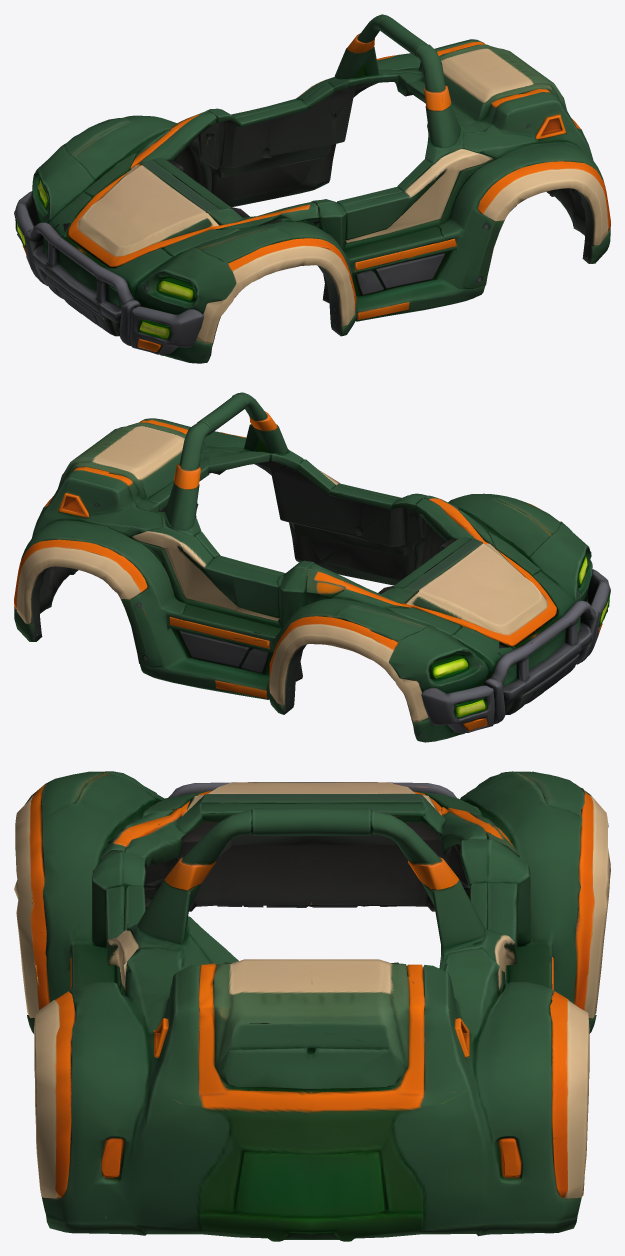
File: vehicle_11.glb
The picture shows the model from 3 angles, top to bottom: view 1: azimuth 30°, elevation 25°; view 2: azimuth 150°, elevation 25°; view 3: azimuth 270°, elevation 25°; orthographic projection. The views are drawn at different scales.
Visible parts, largest first — view 1: geometry_0; view 2: geometry_0; view 3: geometry_0.
Boxes of the visible parts, left/top/right/bottom form: geometry_0: left=14, top=14, right=610, bottom=363; geometry_0: left=14, top=392, right=610, bottom=742; geometry_0: left=14, top=771, right=610, bottom=1241.
Size of the model in its own units: 0.957 by 0.3877 by 0.6123.
1 material, 1 textured.
